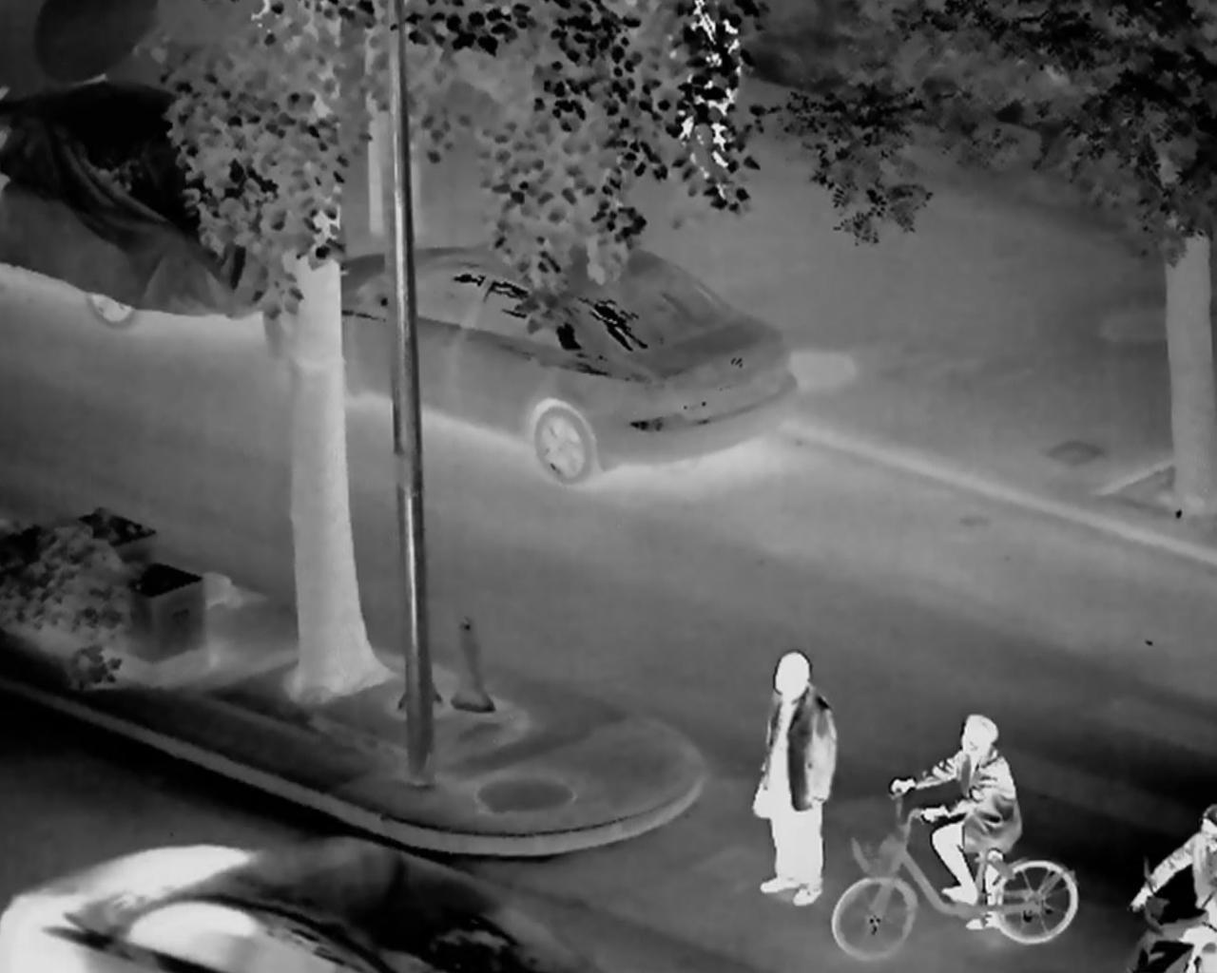person: (889, 714, 1020, 931), (751, 650, 836, 907), (1125, 802, 1217, 961)
